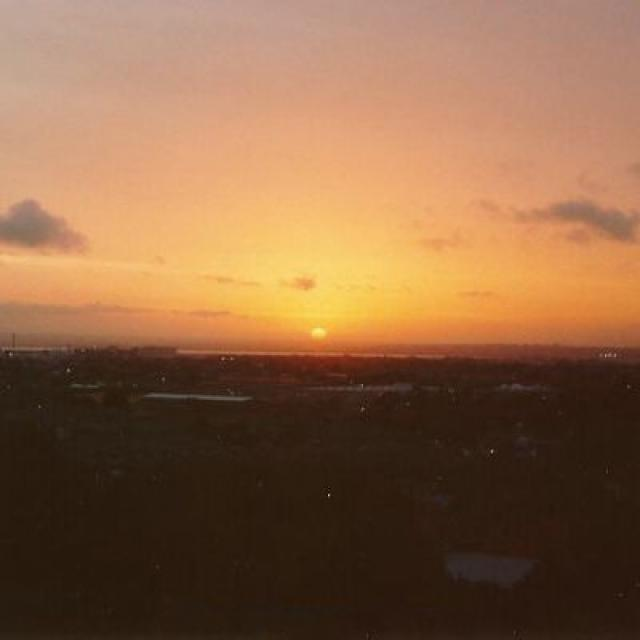St: (1, 24, 640, 347)
